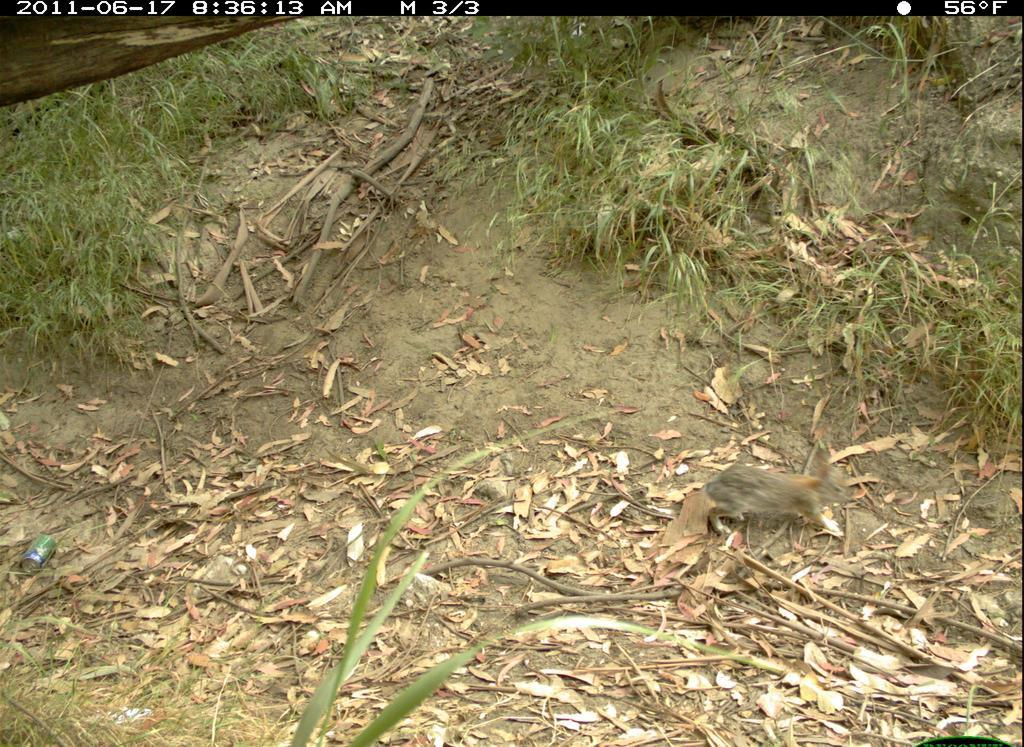rabbit: (701, 443, 858, 542)
